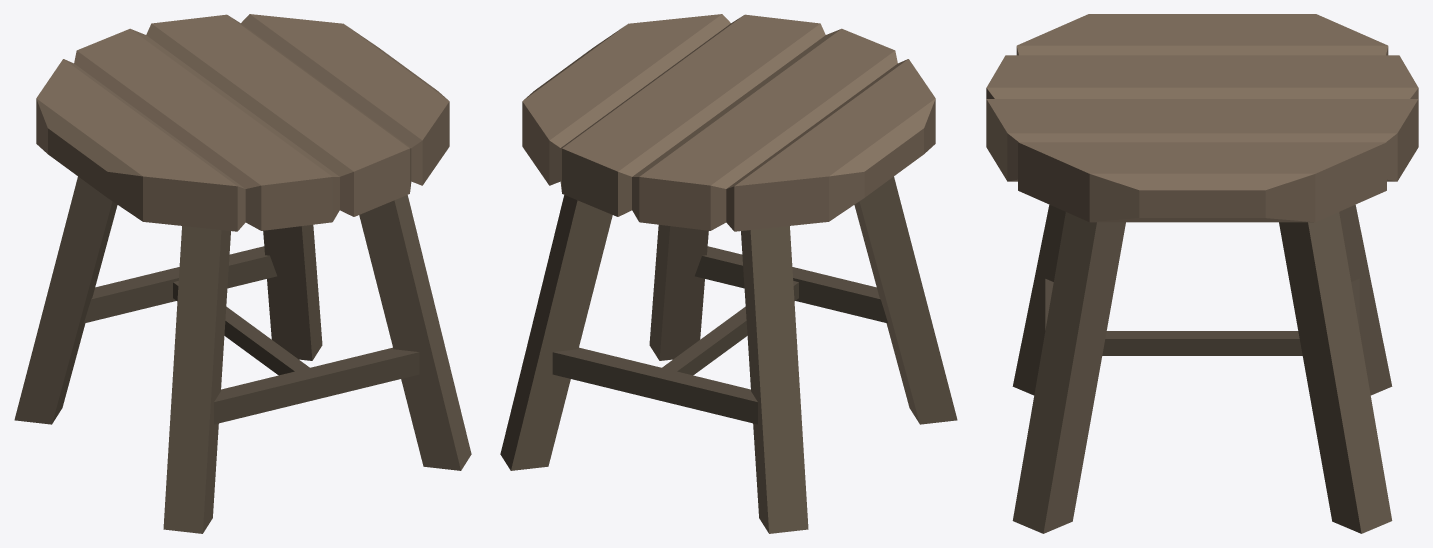
The model's file is SM_Prop_Stool_02.fbx.
3 renders of one model, left to right at view 1: azimuth 30°, elevation 25°; view 2: azimuth 150°, elevation 25°; view 3: azimuth 270°, elevation 25°, orthographic. The views are drawn at different scales.
Parts seen in each view (by area): view 1: SM_Prop_Stool_02; view 2: SM_Prop_Stool_02; view 3: SM_Prop_Stool_02.
Boxes of the visible parts, x1,y1,x2,y2 form: SM_Prop_Stool_02: (14,14,471,533); SM_Prop_Stool_02: (500,14,957,533); SM_Prop_Stool_02: (986,14,1418,533).
Bounding box in the file's own units: 0.5331 × 0.5197 × 0.5656.
